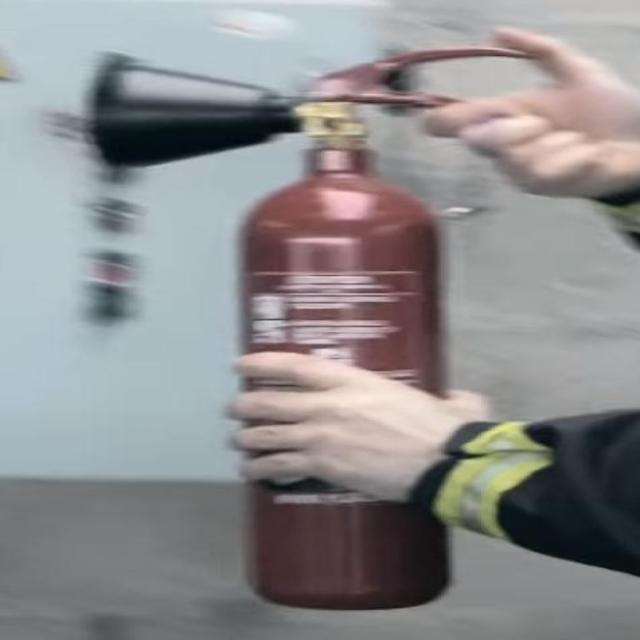fire_extinguisher: (63, 29, 564, 614)
